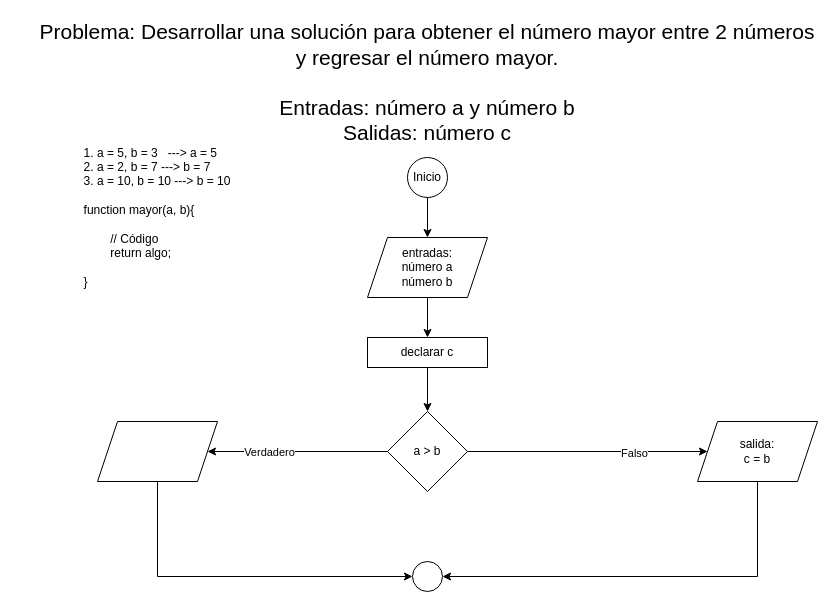
Image size: 835x609. Some labels were removed from this diagram. Each missing label, with the centre of its shape:
"Fin" belongs at point (427, 576).
"salida: c = a" belongs at point (157, 451).
